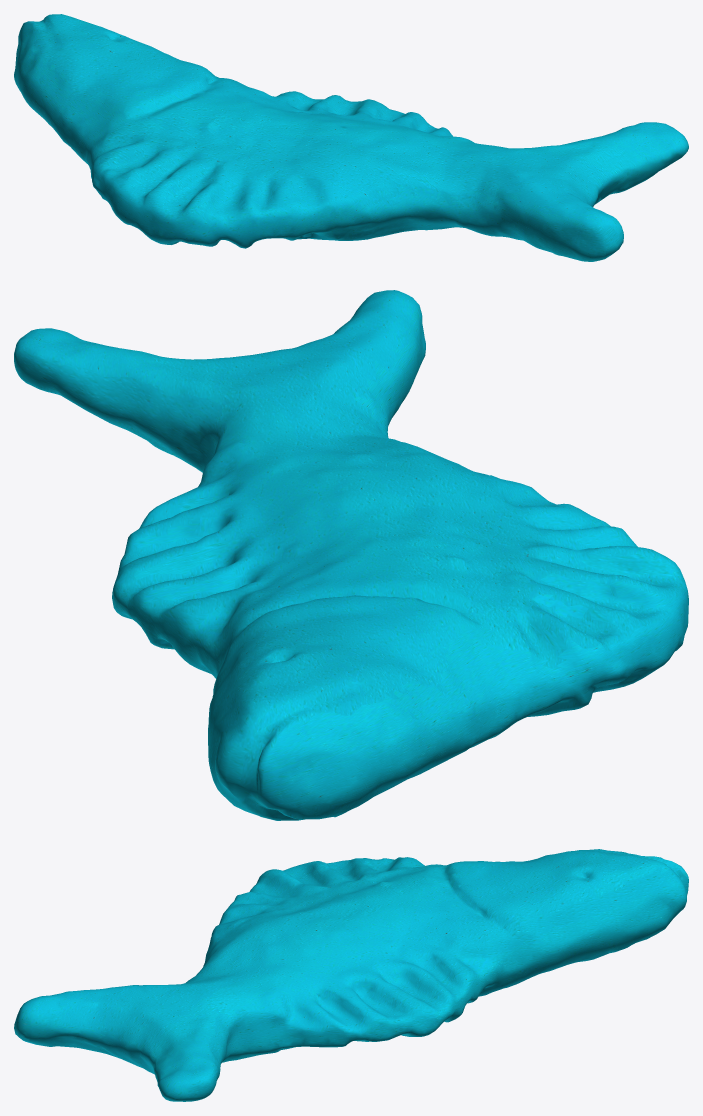
The model's file is fish.glb.
3 renders of one model, top to bottom at view 1: azimuth 30°, elevation 25°; view 2: azimuth 150°, elevation 25°; view 3: azimuth 270°, elevation 25°, orthographic. The views are drawn at different scales.
Parts seen in each view (by area): view 1: fish; view 2: fish; view 3: fish.
Boxes of the visible parts, bbox=[...] form: fish: bbox=[14, 14, 688, 261]; fish: bbox=[14, 290, 688, 820]; fish: bbox=[14, 849, 688, 1101].
Size of the model in its own units: 0.1049 by 0.0221 by 0.1279.
Materials: 1 (1 with a texture image).
